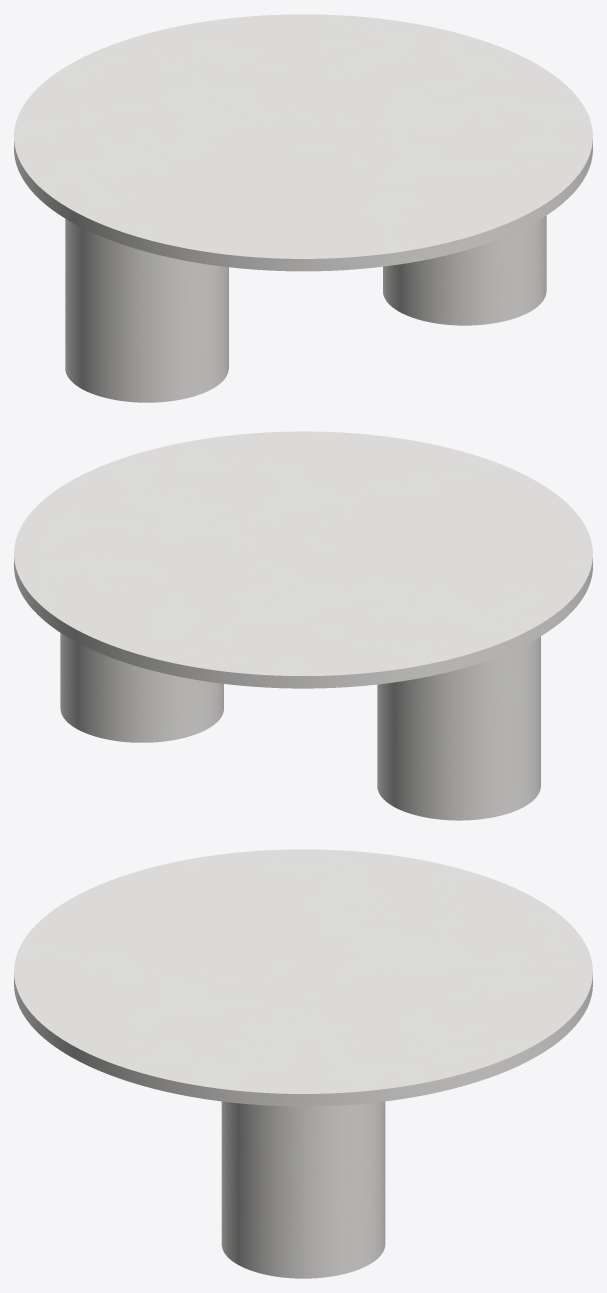
File: purewhite_round_standard_stream.glb
The picture shows the model from 3 angles, top to bottom: view 1: azimuth 30°, elevation 25°; view 2: azimuth 150°, elevation 25°; view 3: azimuth 270°, elevation 25°; orthographic projection.
Visible parts, largest first — view 1: standard_round, stream; view 2: standard_round, stream; view 3: standard_round, stream.
Part boxes in pixels (bbox=[...]): standard_round: bbox=[14, 14, 592, 271]; stream: bbox=[65, 215, 546, 402]; standard_round: bbox=[14, 431, 592, 688]; stream: bbox=[60, 633, 540, 820]; standard_round: bbox=[14, 849, 592, 1106]; stream: bbox=[221, 1101, 385, 1278].
Bounding box in the file's own units: 6.75 × 2.49 × 6.75.
Materials: 1 (1 with a texture image).
